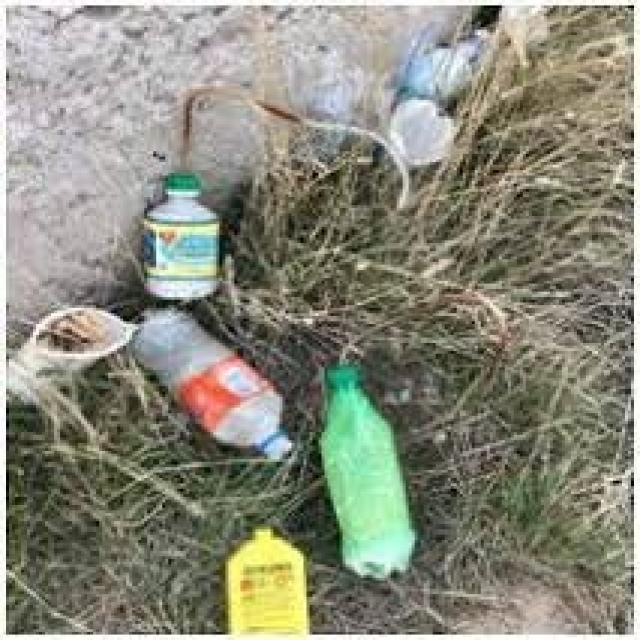leaf: (312, 356, 430, 578), (138, 310, 298, 462), (124, 156, 225, 302), (221, 509, 314, 636)
